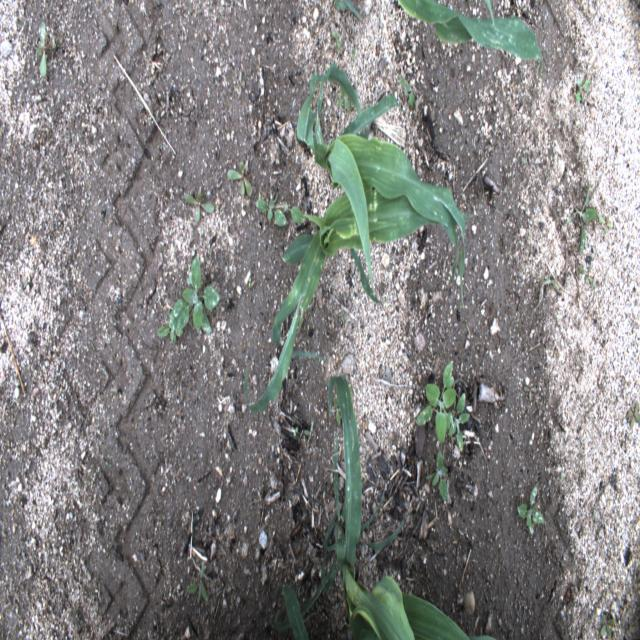crop: (271, 374, 498, 640), (244, 191, 473, 415), (295, 63, 466, 303), (396, 0, 544, 80), (273, 585, 310, 639), (332, 0, 362, 21)
weed: (168, 254, 220, 336), (414, 359, 456, 445), (564, 182, 596, 255), (516, 484, 544, 538), (449, 391, 471, 453), (426, 449, 450, 504), (254, 193, 288, 227), (185, 560, 208, 604), (184, 188, 215, 220), (227, 160, 252, 198), (34, 24, 46, 79), (155, 321, 177, 346), (400, 75, 414, 109), (575, 78, 591, 102), (338, 82, 350, 112), (600, 616, 616, 638), (627, 402, 640, 429), (577, 266, 594, 285), (522, 386, 538, 405), (542, 274, 559, 290), (304, 420, 314, 446), (600, 216, 614, 234), (334, 396, 340, 428), (333, 33, 341, 53), (351, 48, 356, 60), (294, 424, 298, 438), (248, 278, 252, 290)
